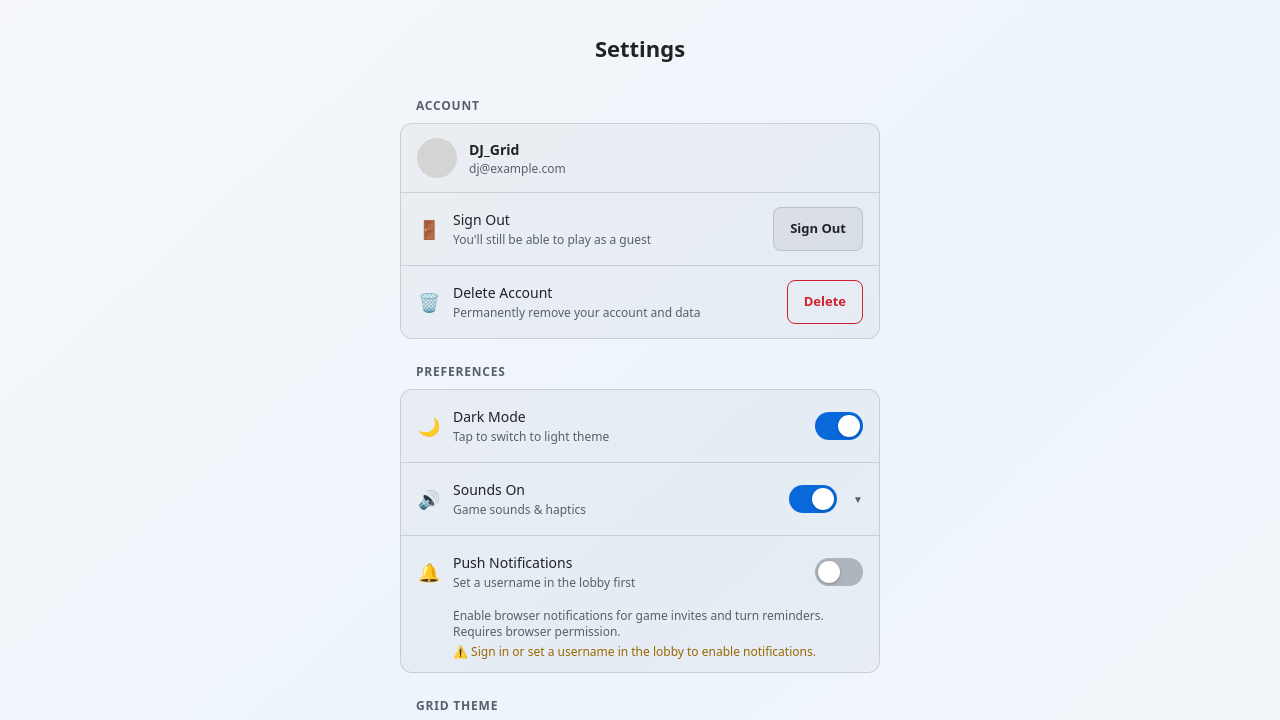
Test: Settings Account Section › delete button shows confirmation
Click the button with test id "auth-delete-button".
click(825, 302)  # box [787,280,863,324]
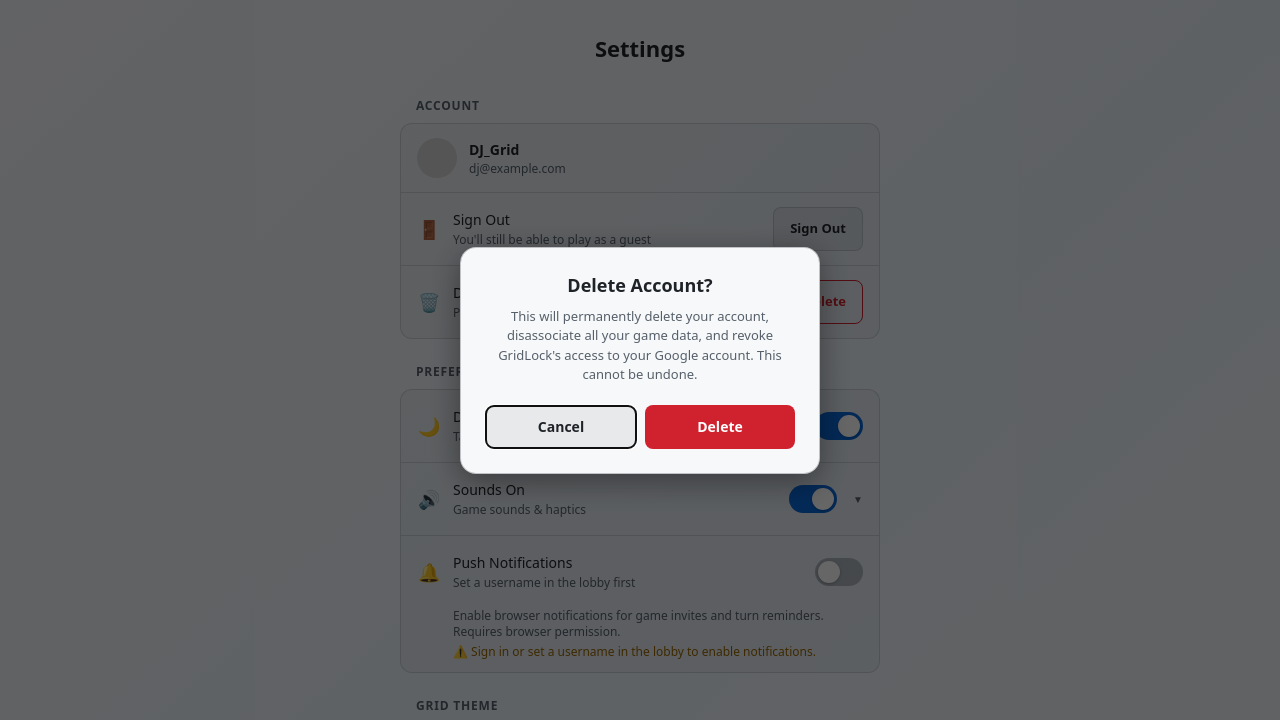
Result: the dialog with test id "delete-confirm-modal" is shown
